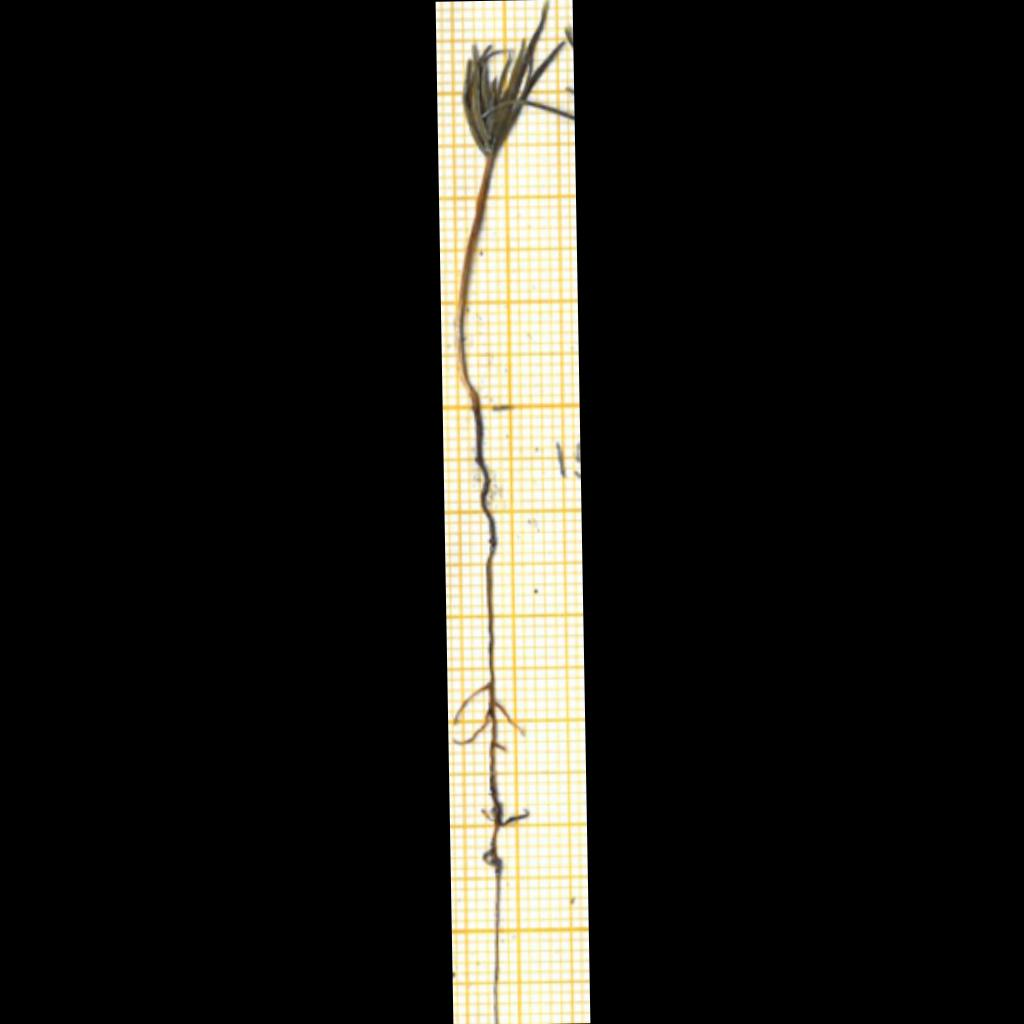flowerPinus: (463, 0, 574, 156)
rootPinus: (454, 414, 516, 1023)
stemPinus: (456, 155, 493, 412)
